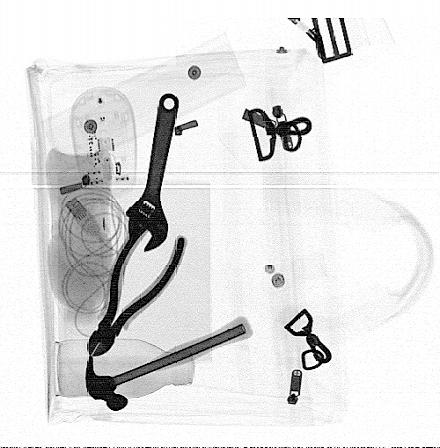Hammer: (84, 312, 256, 412)
Pliers: (87, 218, 187, 360)
Wrench: (125, 91, 177, 253)
